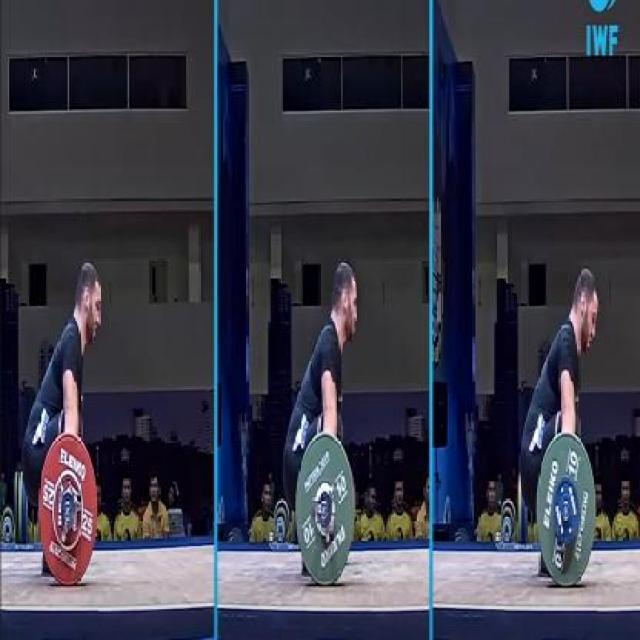Barbell: (310, 474, 338, 554), (56, 483, 84, 537), (558, 491, 572, 531)
